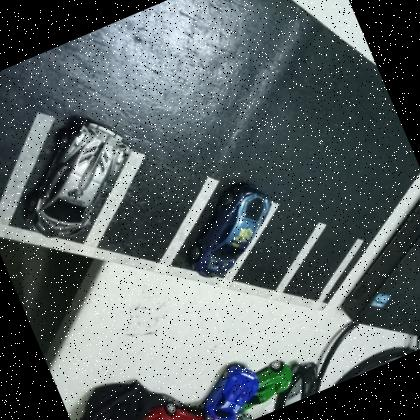Car: (25, 120, 131, 239), (189, 182, 277, 276)
